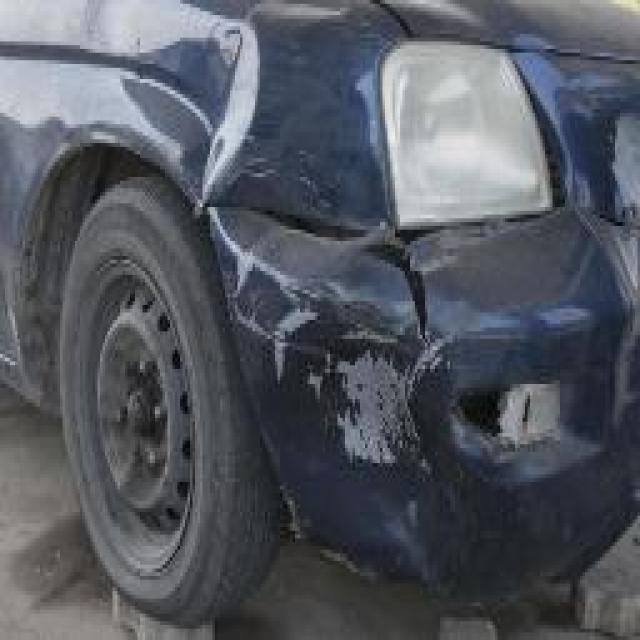Bumper: (217, 208, 640, 614)
Fender: (46, 0, 403, 220)
